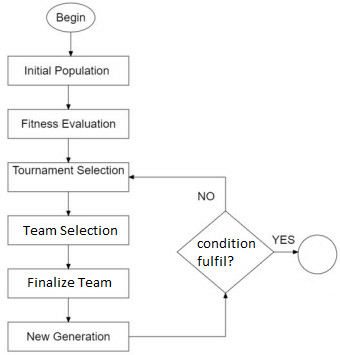arrow: (127, 292, 230, 339), (126, 173, 228, 212), (270, 248, 298, 257), (63, 296, 72, 323), (64, 189, 72, 216), (64, 136, 72, 162), (64, 243, 72, 269), (67, 30, 75, 55), (65, 84, 72, 110)
connection: (296, 233, 339, 277)
decision: (175, 209, 275, 295)
process: (5, 106, 132, 142), (5, 212, 131, 248), (5, 266, 131, 301), (5, 319, 131, 354), (5, 54, 132, 88), (5, 160, 131, 194)
terminator: (45, 1, 97, 34)
text: (195, 239, 257, 268), (11, 164, 127, 176), (19, 117, 116, 131), (21, 223, 118, 237), (26, 275, 113, 289), (22, 65, 111, 78), (25, 330, 113, 343), (55, 10, 87, 25), (271, 233, 297, 247), (195, 190, 217, 203)
